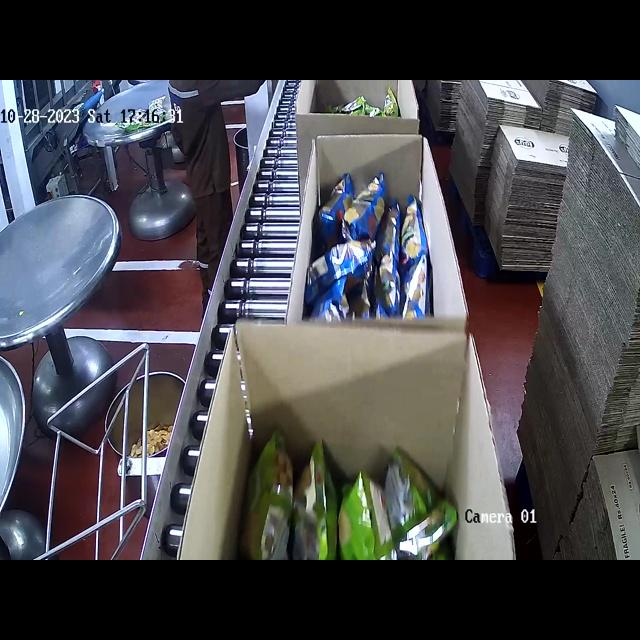paprika: (312, 174, 434, 330)
yogurt: (247, 427, 456, 560)
